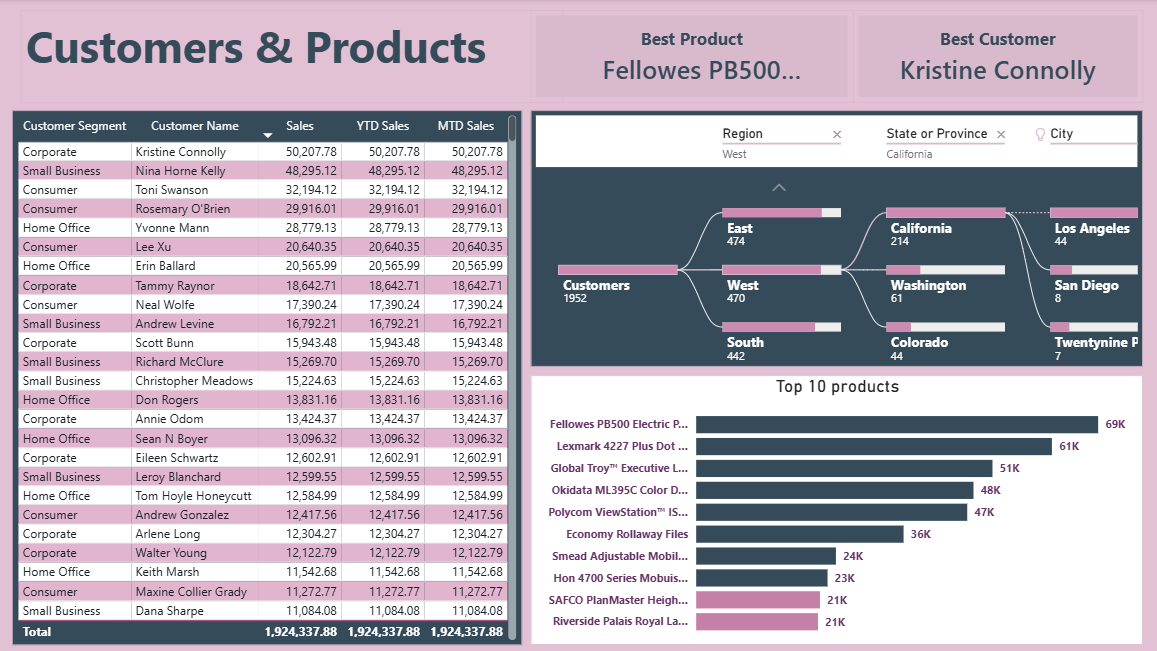

This screenshot's page, from the dashboard's own definition file:
{"tool":"powerbi","page":{"name":"customers and products","canvas":[1280,720],"ordinal":1},"visuals":[{"type":"tableEx","fields":{"Values":["Orders.Customer Segment","Orders.Customer Name","Sum(Orders.Sales)","Orders.YTD Sales","Orders.MTD Sales"]},"box":[21.7,121.9,559.8,587.5],"z":0},{"type":"decompositionTreeVisual","fields":{"ExplainBy":["Orders.Region","Orders.State or Province","Orders.City"],"Analyze":["CountNonNull(Orders.Customer ID)"]},"box":[591.4,122.1,672.4,281.3],"z":1000},{"type":"clusteredBarChart","title":"Top 10 products","fields":{"Category":["Orders.Product Name"],"Y":["Sum(Orders.Sales)"]},"box":[591.4,413,672.4,296.4],"z":2000},{"type":"cardVisual","fields":{"Data":["Orders.Best Customer"]},"box":[945.8,12.1,318.5,101.3],"z":3000},{"type":"cardVisual","fields":{"Data":["Orders.Best Product"]},"box":[591.4,12.3,354,101.5],"z":4000},{"type":"textbox","box":[31.4,12.1,596,101.3],"z":5000}]}

Visuals, with their boxes in screenshot pixels (x1, y1, x2, y2), scaled from the page's 1280x720 canvas onto the 1157x651 screenshot:
tableEx - Orders.Customer Segment x Orders.Customer Name: bbox=[20, 110, 526, 641]
decompositionTreeVisual - Orders.Region x Orders.State or Province: bbox=[535, 110, 1142, 365]
"Top 10 products" clusteredBarChart: bbox=[535, 373, 1142, 641]
cardVisual - Orders.Best Customer: bbox=[855, 11, 1143, 103]
cardVisual - Orders.Best Product: bbox=[535, 11, 855, 103]
textbox: bbox=[28, 11, 567, 103]
